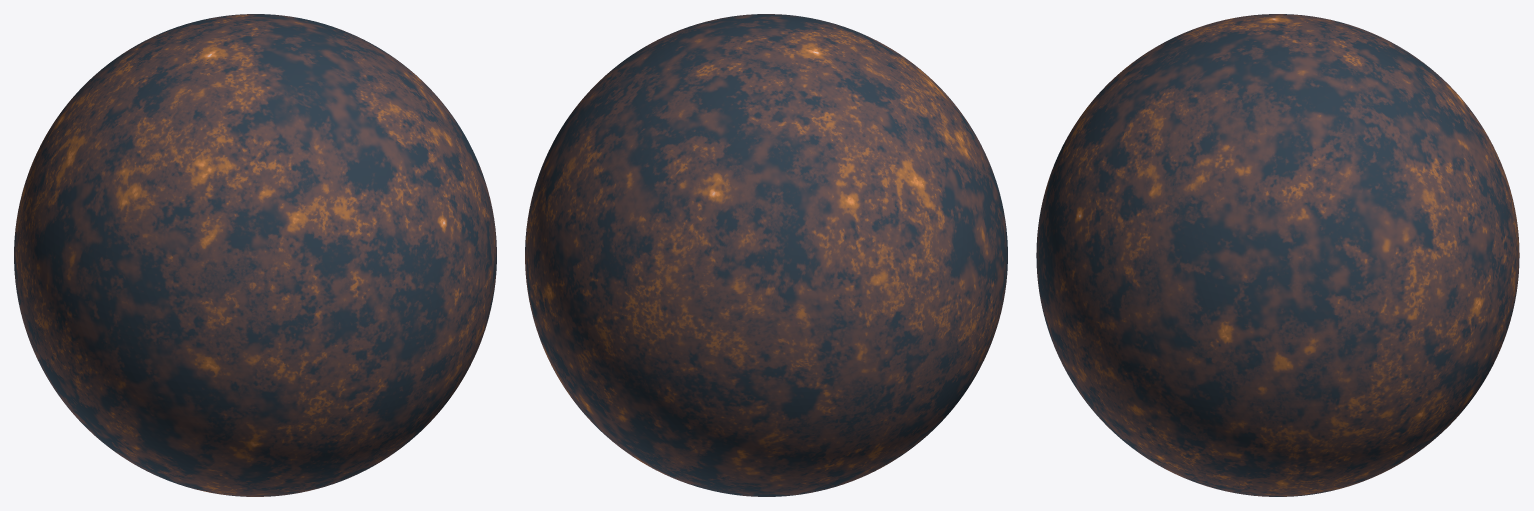
The model's file is planet.glb.
3 renders of one model, left to right at view 1: azimuth 30°, elevation 25°; view 2: azimuth 150°, elevation 25°; view 3: azimuth 270°, elevation 25°, orthographic.
Parts seen in each view (by area): view 1: Icosphere; view 2: Icosphere; view 3: Icosphere.
Boxes of the visible parts, <box> form: Icosphere: <box>14,14,496,496</box>; Icosphere: <box>525,14,1007,496</box>; Icosphere: <box>1036,14,1519,496</box>.
Size of the model in its own units: 2 by 2 by 2.
Materials: 1 (1 with a texture image).
